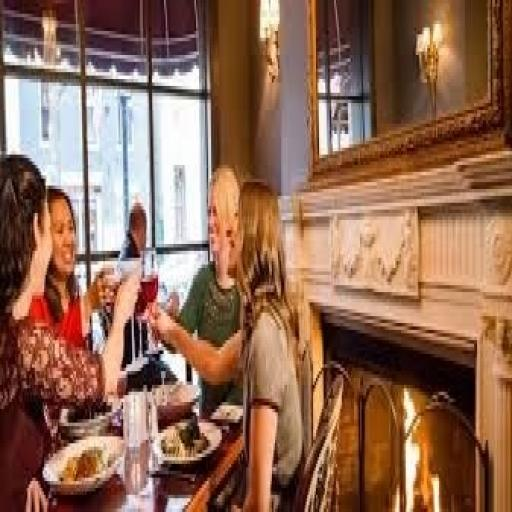eating: (0, 141, 307, 508), (146, 172, 305, 508), (0, 147, 141, 508)
